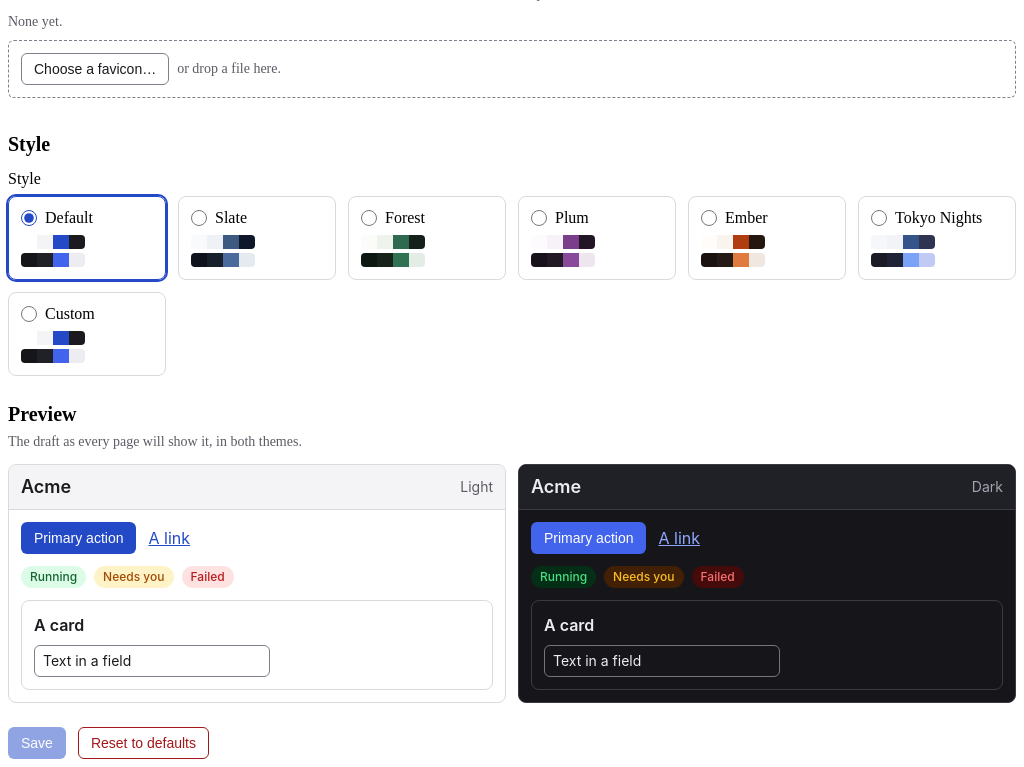
it: site Appearance page (KOBE-501) › resets to Kobe's defaults after asking
(page scrolled)
Click the button "Reset to defaults": (143, 742) [78,726,209,758]
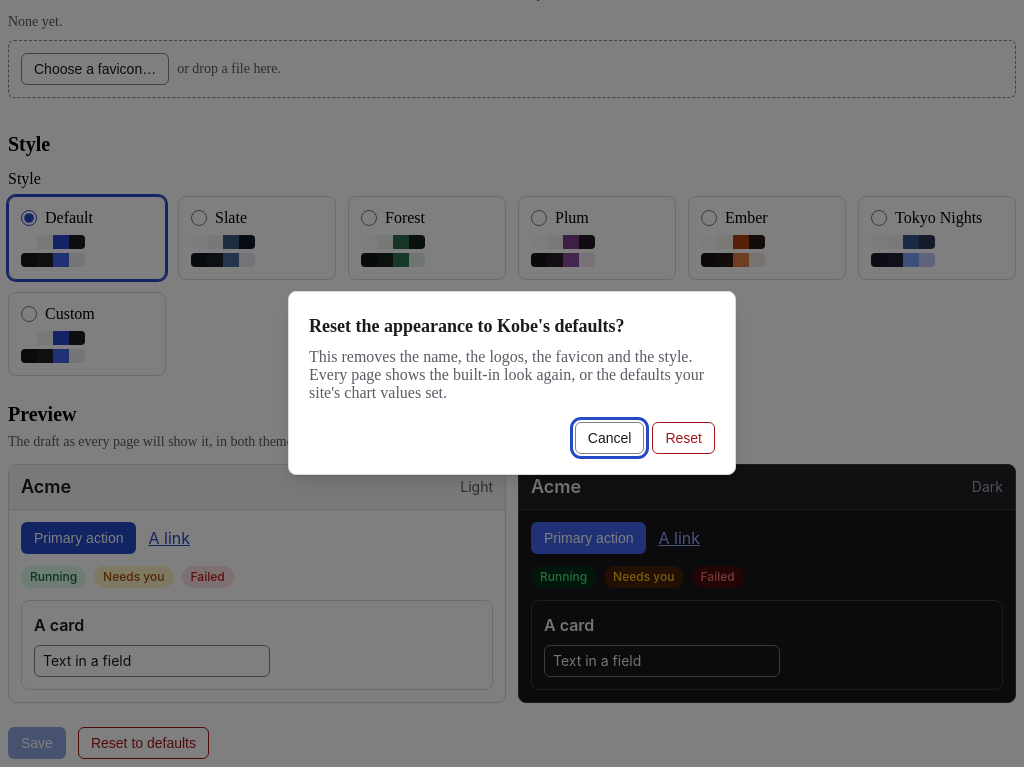
Click the button "Reset": (684, 438) [652,422,715,454]
(page scrolled)
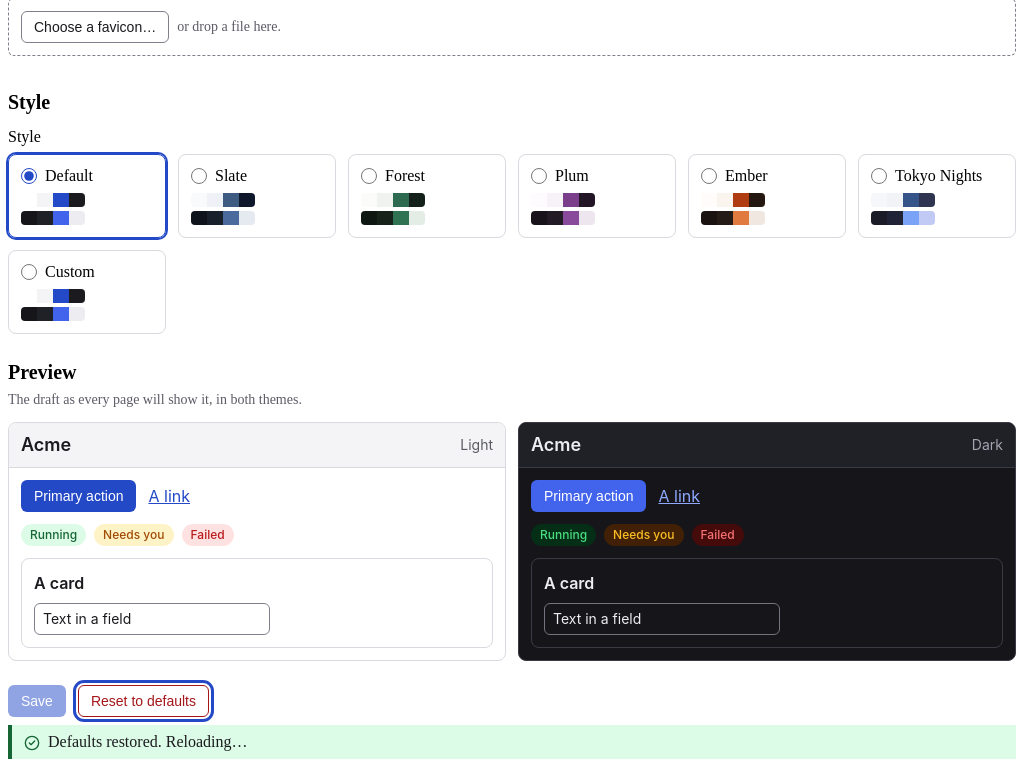
Expected: the text "Defaults restored. Reloading…" is shown, [48,732,248,750]
